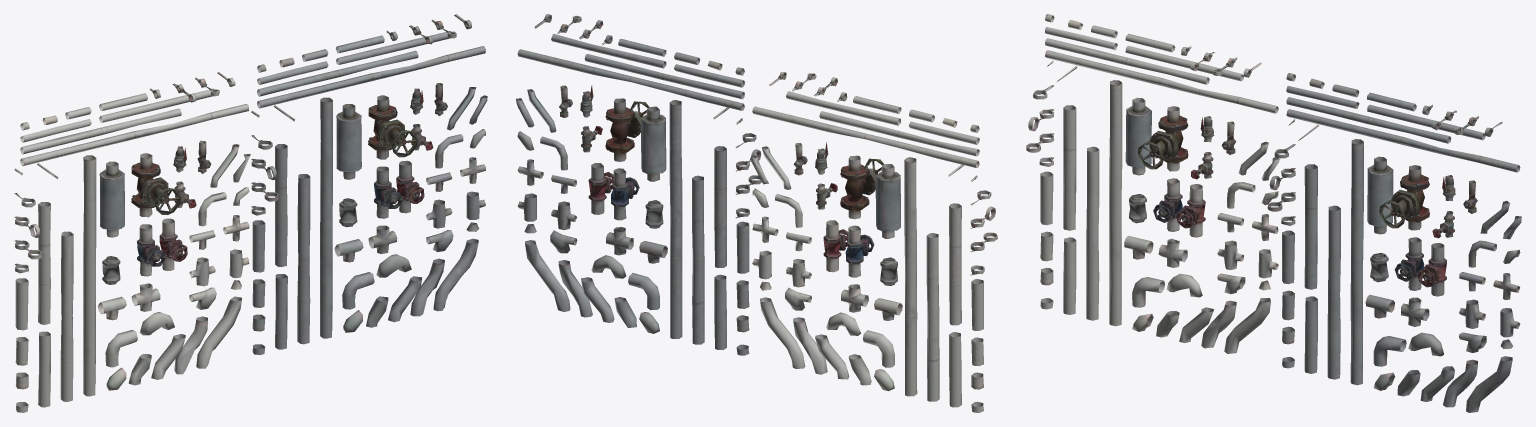
The model's file is modular_pipes_lod2.glb.
3 views of the same model, side by side, from view 1: azimuth 30°, elevation 25°; view 2: azimuth 150°, elevation 25°; view 3: azimuth 330°, elevation 25° (orthographic). The views are drawn at different scales.
Parts seen in each view (by area): view 1: pipe_5cm_pvc, pipe_5cm_metal; view 2: pipe_5cm_metal, pipe_5cm_pvc; view 3: pipe_5cm_pvc, pipe_5cm_metal.
Boxes of the visible parts, x1,y1,x2,y2 form: pipe_5cm_pvc: [14, 72, 250, 412]; pipe_5cm_metal: [251, 14, 487, 355]; pipe_5cm_metal: [516, 14, 761, 355]; pipe_5cm_pvc: [751, 72, 997, 412]; pipe_5cm_pvc: [1026, 14, 1279, 353]; pipe_5cm_metal: [1267, 73, 1521, 412].
Size of the model in its own units: 4.19 by 2.43 by 0.4527.
2 materials, 2 textured.
